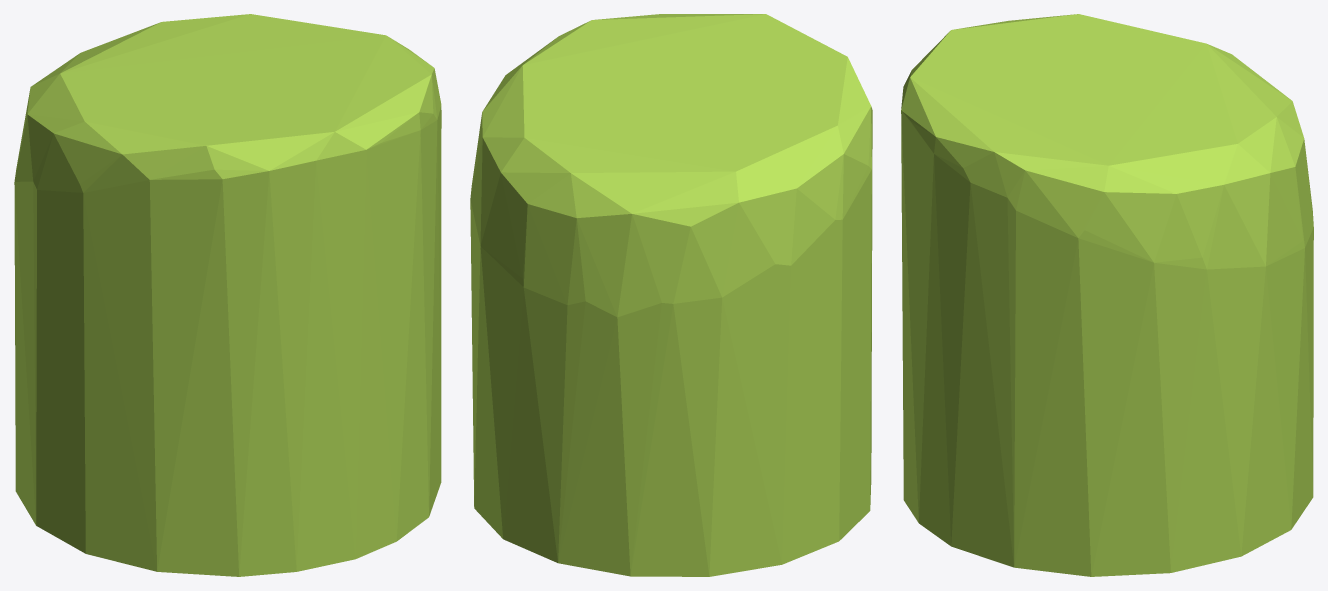
The model's file is ur10_e_link_2_coll_4.dae.
3 renders of one model, left to right at view 1: azimuth 30°, elevation 25°; view 2: azimuth 150°, elevation 25°; view 3: azimuth 270°, elevation 25°, orthographic. The views are drawn at different scales.
Visible parts, largest first — view 1: node; view 2: node; view 3: node.
Part boxes in pixels (x1,y1,x2,y2): node: [14, 14, 441, 576]; node: [470, 14, 872, 576]; node: [901, 14, 1313, 576].
Bounding box in the file's own units: 0.1507 × 0.1675 × 0.151.
